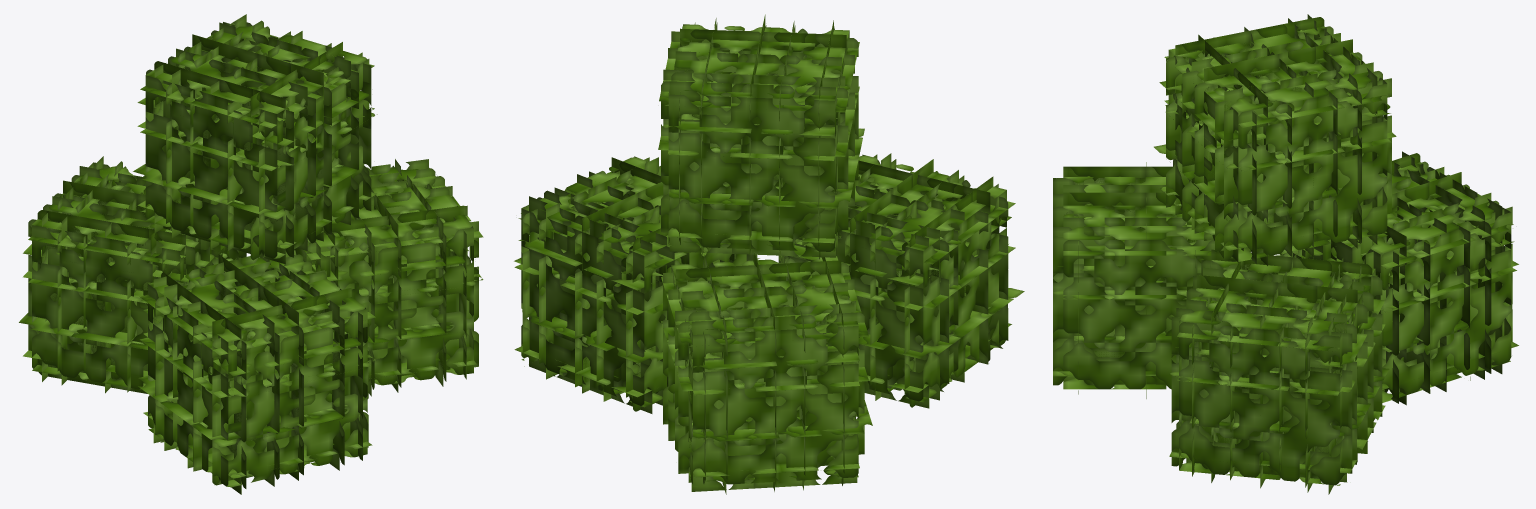
The model's file is bushFBX.fbx.
3 views of the same model, side by side, from view 1: azimuth 30°, elevation 25°; view 2: azimuth 150°, elevation 25°; view 3: azimuth 270°, elevation 25° (orthographic). The views are drawn at different scales.
Visible parts, largest first — view 1: Object_2.001, Object_2.003, Object_2.004, Object_2.002; view 2: Object_2.004, Object_2.001, Object_2.003, Object_2.002; view 3: Object_2.001, Object_2.002, Object_2.003, Object_2.004.
Part boxes in pixels (<box>): Object_2.001: <box>133,14,377,264</box>; Object_2.003: <box>138,252,375,494</box>; Object_2.004: <box>19,156,246,393</box>; Object_2.002: <box>294,159,483,396</box>; Object_2.004: <box>661,253,872,494</box>; Object_2.001: <box>658,14,864,259</box>; Object_2.003: <box>778,153,1024,408</box>; Object_2.002: <box>514,156,759,413</box>; Object_2.001: <box>1154,14,1396,265</box>; Object_2.002: <box>1169,249,1389,494</box>; Object_2.003: <box>1053,162,1223,398</box>; Object_2.004: <box>1276,151,1518,405</box>.
Size of the model in its own units: 276 by 230 by 285.
1 material, 1 textured.
